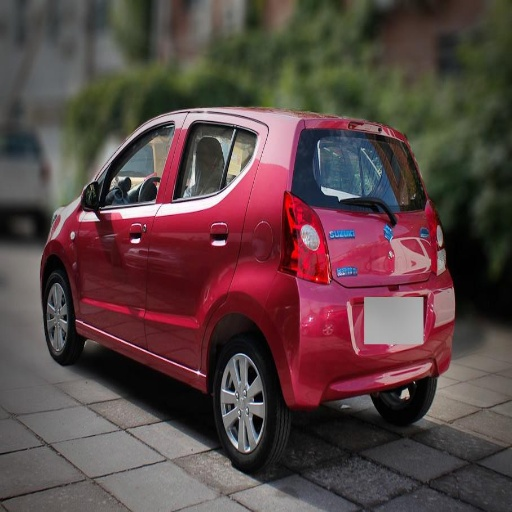back_bumper: (350, 318, 451, 392)
back_glass: (315, 132, 413, 202)
back_left_door: (146, 116, 261, 371)
back_left_light: (288, 219, 332, 282)
trunk: (290, 203, 429, 403)
